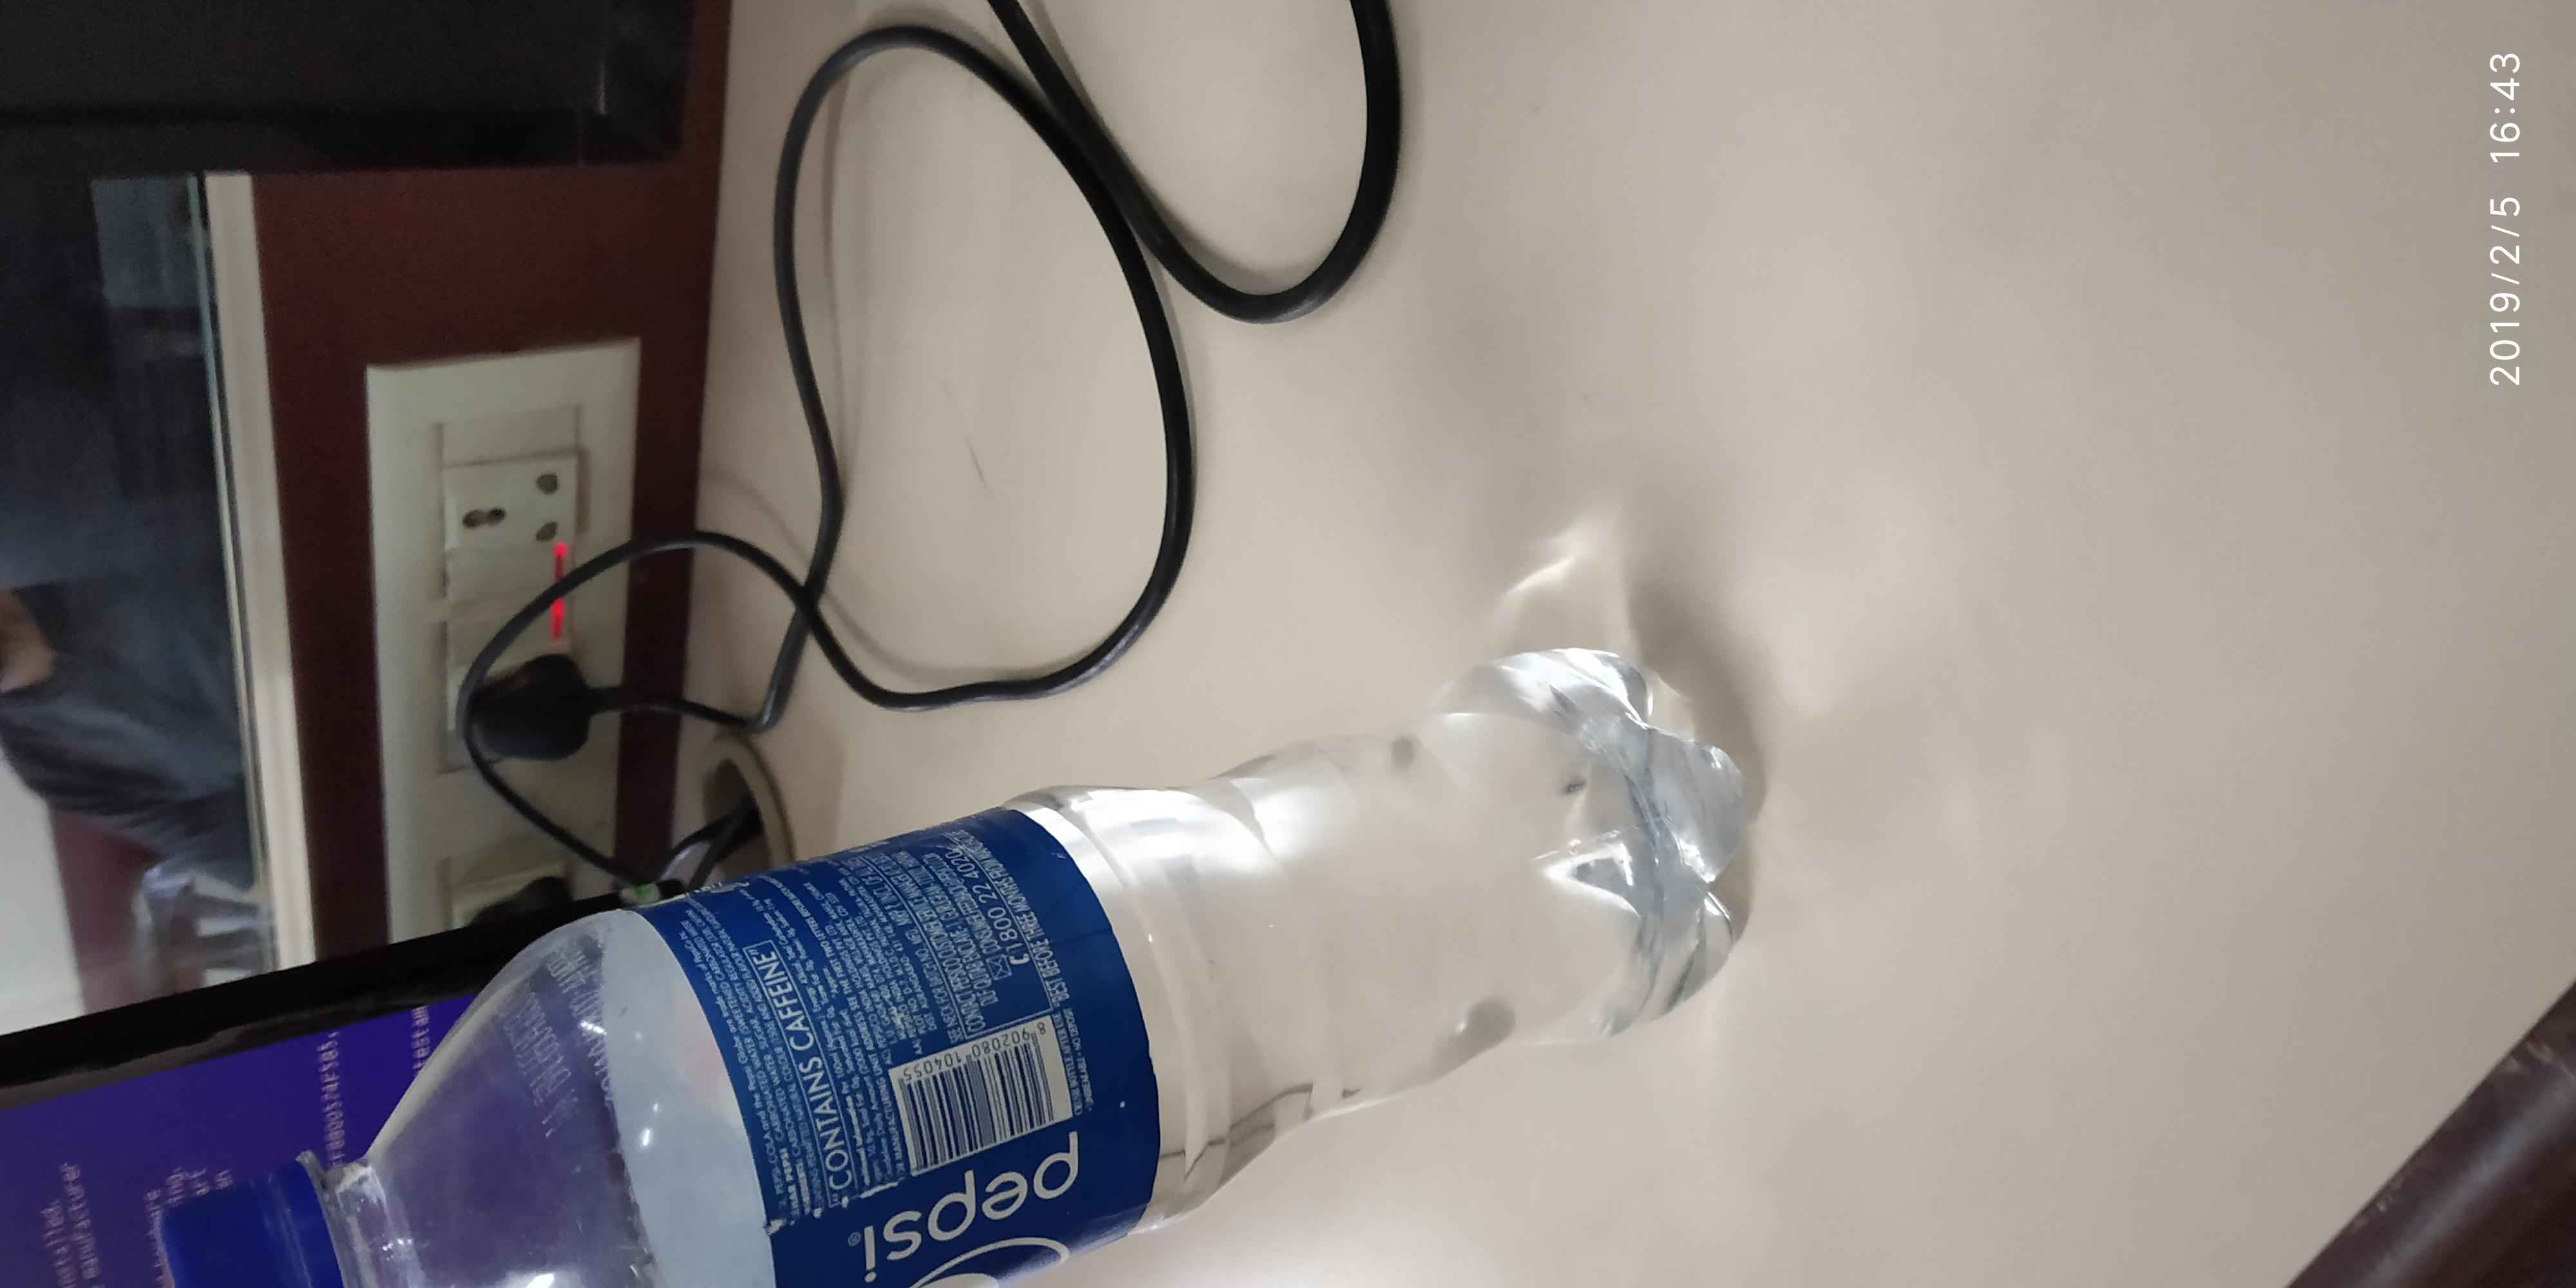pepsi: (874, 1119, 1086, 1281)
